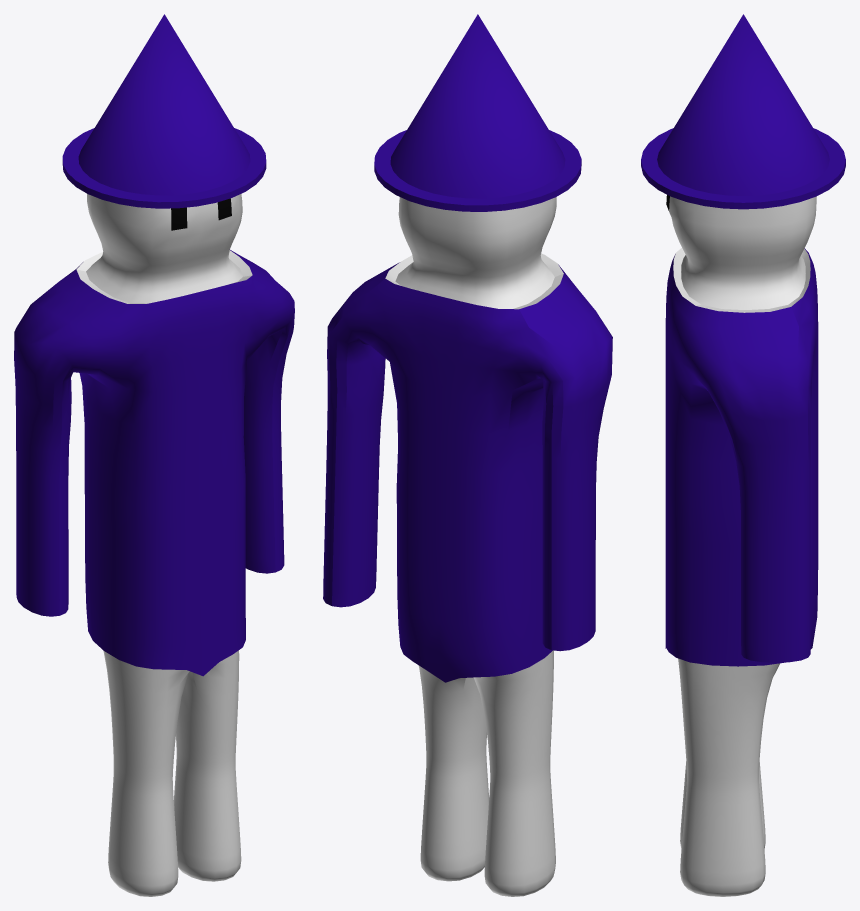
The model's file is super_chel (1).fbx.
3 renders of one model, left to right at view 1: azimuth 30°, elevation 25°; view 2: azimuth 150°, elevation 25°; view 3: azimuth 270°, elevation 25°, orthographic.
Parts seen in each view (by area): view 1: Cylinder; view 2: Cylinder; view 3: Cylinder.
Boxes of the visible parts, x1,y1,x2,y2 form: Cylinder: (14,14,294,896); Cylinder: (323,14,612,896); Cylinder: (641,14,845,896).
Size of the model in its own units: 429 by 1368 by 295.
